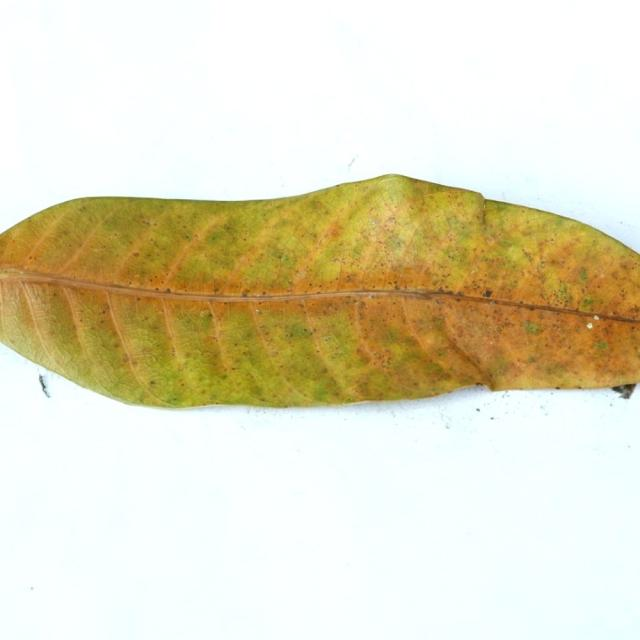Mango: (0, 175, 639, 407)
Powdery_Mildew: (346, 315, 396, 371), (201, 226, 237, 254), (266, 278, 317, 296), (318, 220, 352, 243), (26, 283, 56, 309), (534, 235, 564, 258), (124, 266, 147, 287), (312, 384, 337, 400), (505, 244, 526, 263), (177, 343, 197, 362), (309, 361, 330, 379), (162, 387, 183, 403), (354, 300, 366, 324), (548, 364, 569, 377), (279, 251, 296, 267), (524, 320, 542, 334), (497, 238, 515, 249), (200, 314, 215, 327), (447, 216, 461, 228), (582, 294, 594, 307), (333, 255, 347, 266), (140, 338, 154, 349), (390, 237, 403, 248), (595, 340, 608, 350), (579, 267, 588, 281), (242, 289, 256, 297), (447, 252, 458, 262), (122, 355, 133, 365), (129, 250, 142, 258), (140, 219, 153, 227), (400, 283, 411, 291), (437, 287, 449, 294), (212, 283, 220, 293), (308, 231, 318, 239), (482, 290, 493, 297), (275, 251, 284, 259), (191, 234, 200, 242), (295, 270, 304, 278), (437, 349, 446, 357), (204, 311, 214, 318), (634, 304, 640, 315), (573, 304, 581, 312), (475, 382, 485, 388), (357, 301, 365, 308), (150, 238, 158, 245), (470, 267, 478, 274), (242, 277, 250, 284), (286, 278, 293, 286), (527, 305, 536, 311), (304, 328, 311, 335), (330, 257, 338, 263), (457, 295, 465, 301), (27, 255, 36, 260), (92, 247, 101, 252), (388, 281, 395, 287), (540, 260, 546, 267), (164, 287, 171, 293), (487, 300, 495, 305), (307, 281, 313, 287), (171, 348, 176, 355), (394, 285, 401, 290), (241, 292, 248, 297), (548, 238, 555, 243), (370, 220, 377, 225), (213, 401, 221, 405), (231, 366, 237, 371), (324, 337, 329, 343), (393, 281, 398, 286), (150, 380, 155, 385), (180, 381, 185, 386), (600, 273, 605, 278), (261, 291, 267, 295), (154, 287, 160, 291), (368, 295, 374, 299), (555, 386, 561, 390), (101, 310, 106, 314), (80, 317, 85, 321), (136, 297, 141, 301), (255, 309, 260, 313), (338, 350, 343, 354), (100, 319, 104, 323), (316, 350, 320, 354), (476, 408, 480, 412), (620, 221, 624, 224), (490, 417, 494, 420)
